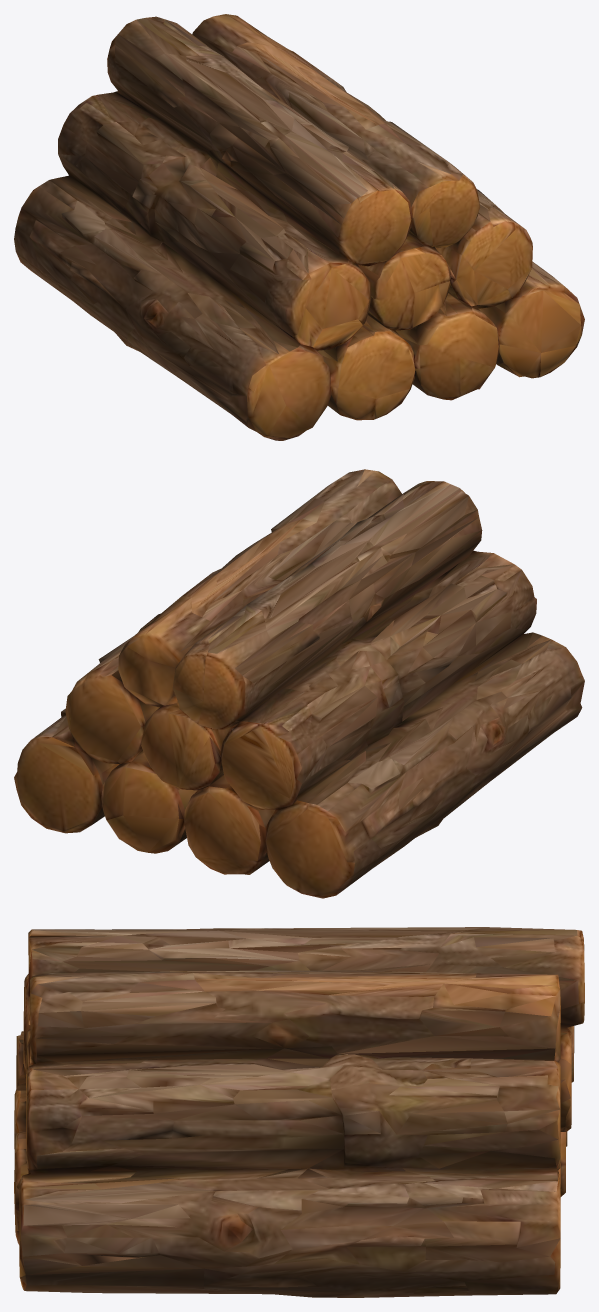
File: logs.glb
The picture shows the model from 3 angles, top to bottom: view 1: azimuth 30°, elevation 25°; view 2: azimuth 150°, elevation 25°; view 3: azimuth 270°, elevation 25°; orthographic projection. The views are drawn at different scales.
Parts seen in each view (by area): view 1: logs; view 2: logs; view 3: logs.
Boxes of the visible parts, x1=… form: logs: x1=14, y1=14, x2=584, y2=440; logs: x1=14, y1=469, x2=584, y2=898; logs: x1=14, y1=927, x2=584, y2=1297.
Size of the model in its own units: 0.8068 by 0.5155 by 0.9793.
Materials: 1 (1 with a texture image).
